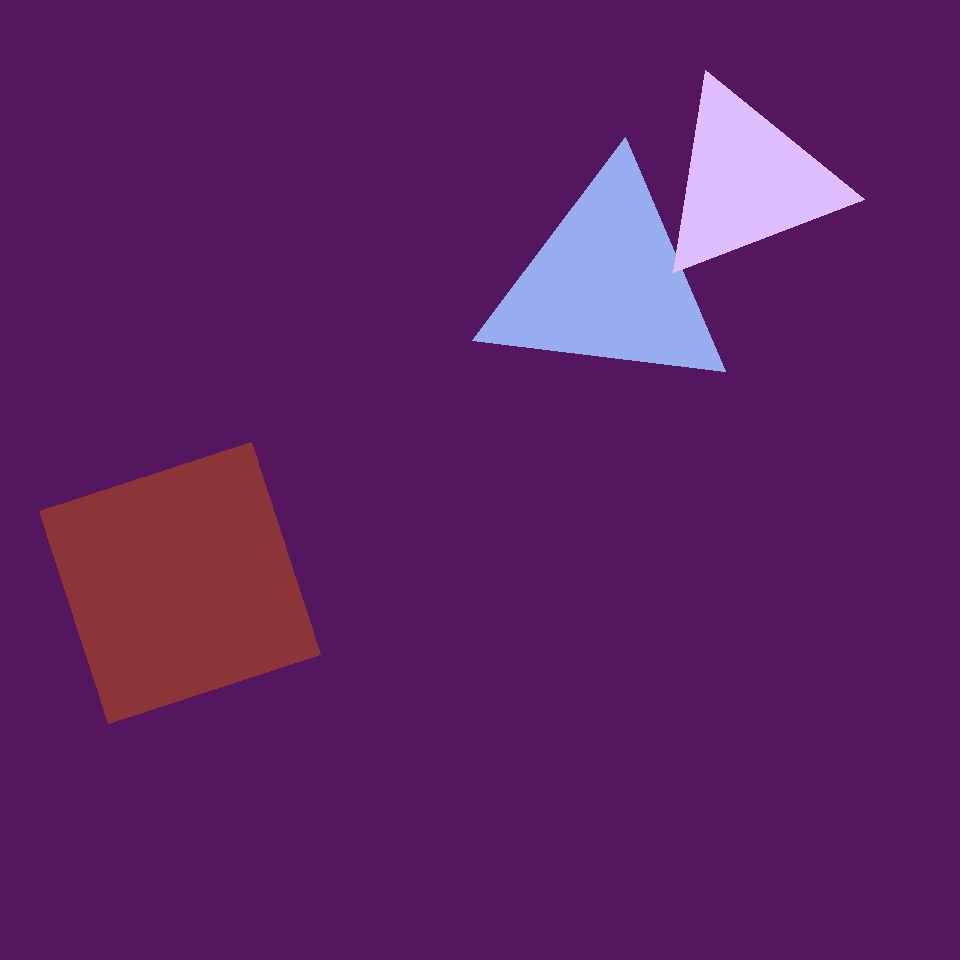circle: (481, 166, 734, 400), (652, 80, 844, 282), (652, 639, 746, 732)
square: (39, 442, 320, 724)
triangle: (60, 554, 320, 813)
